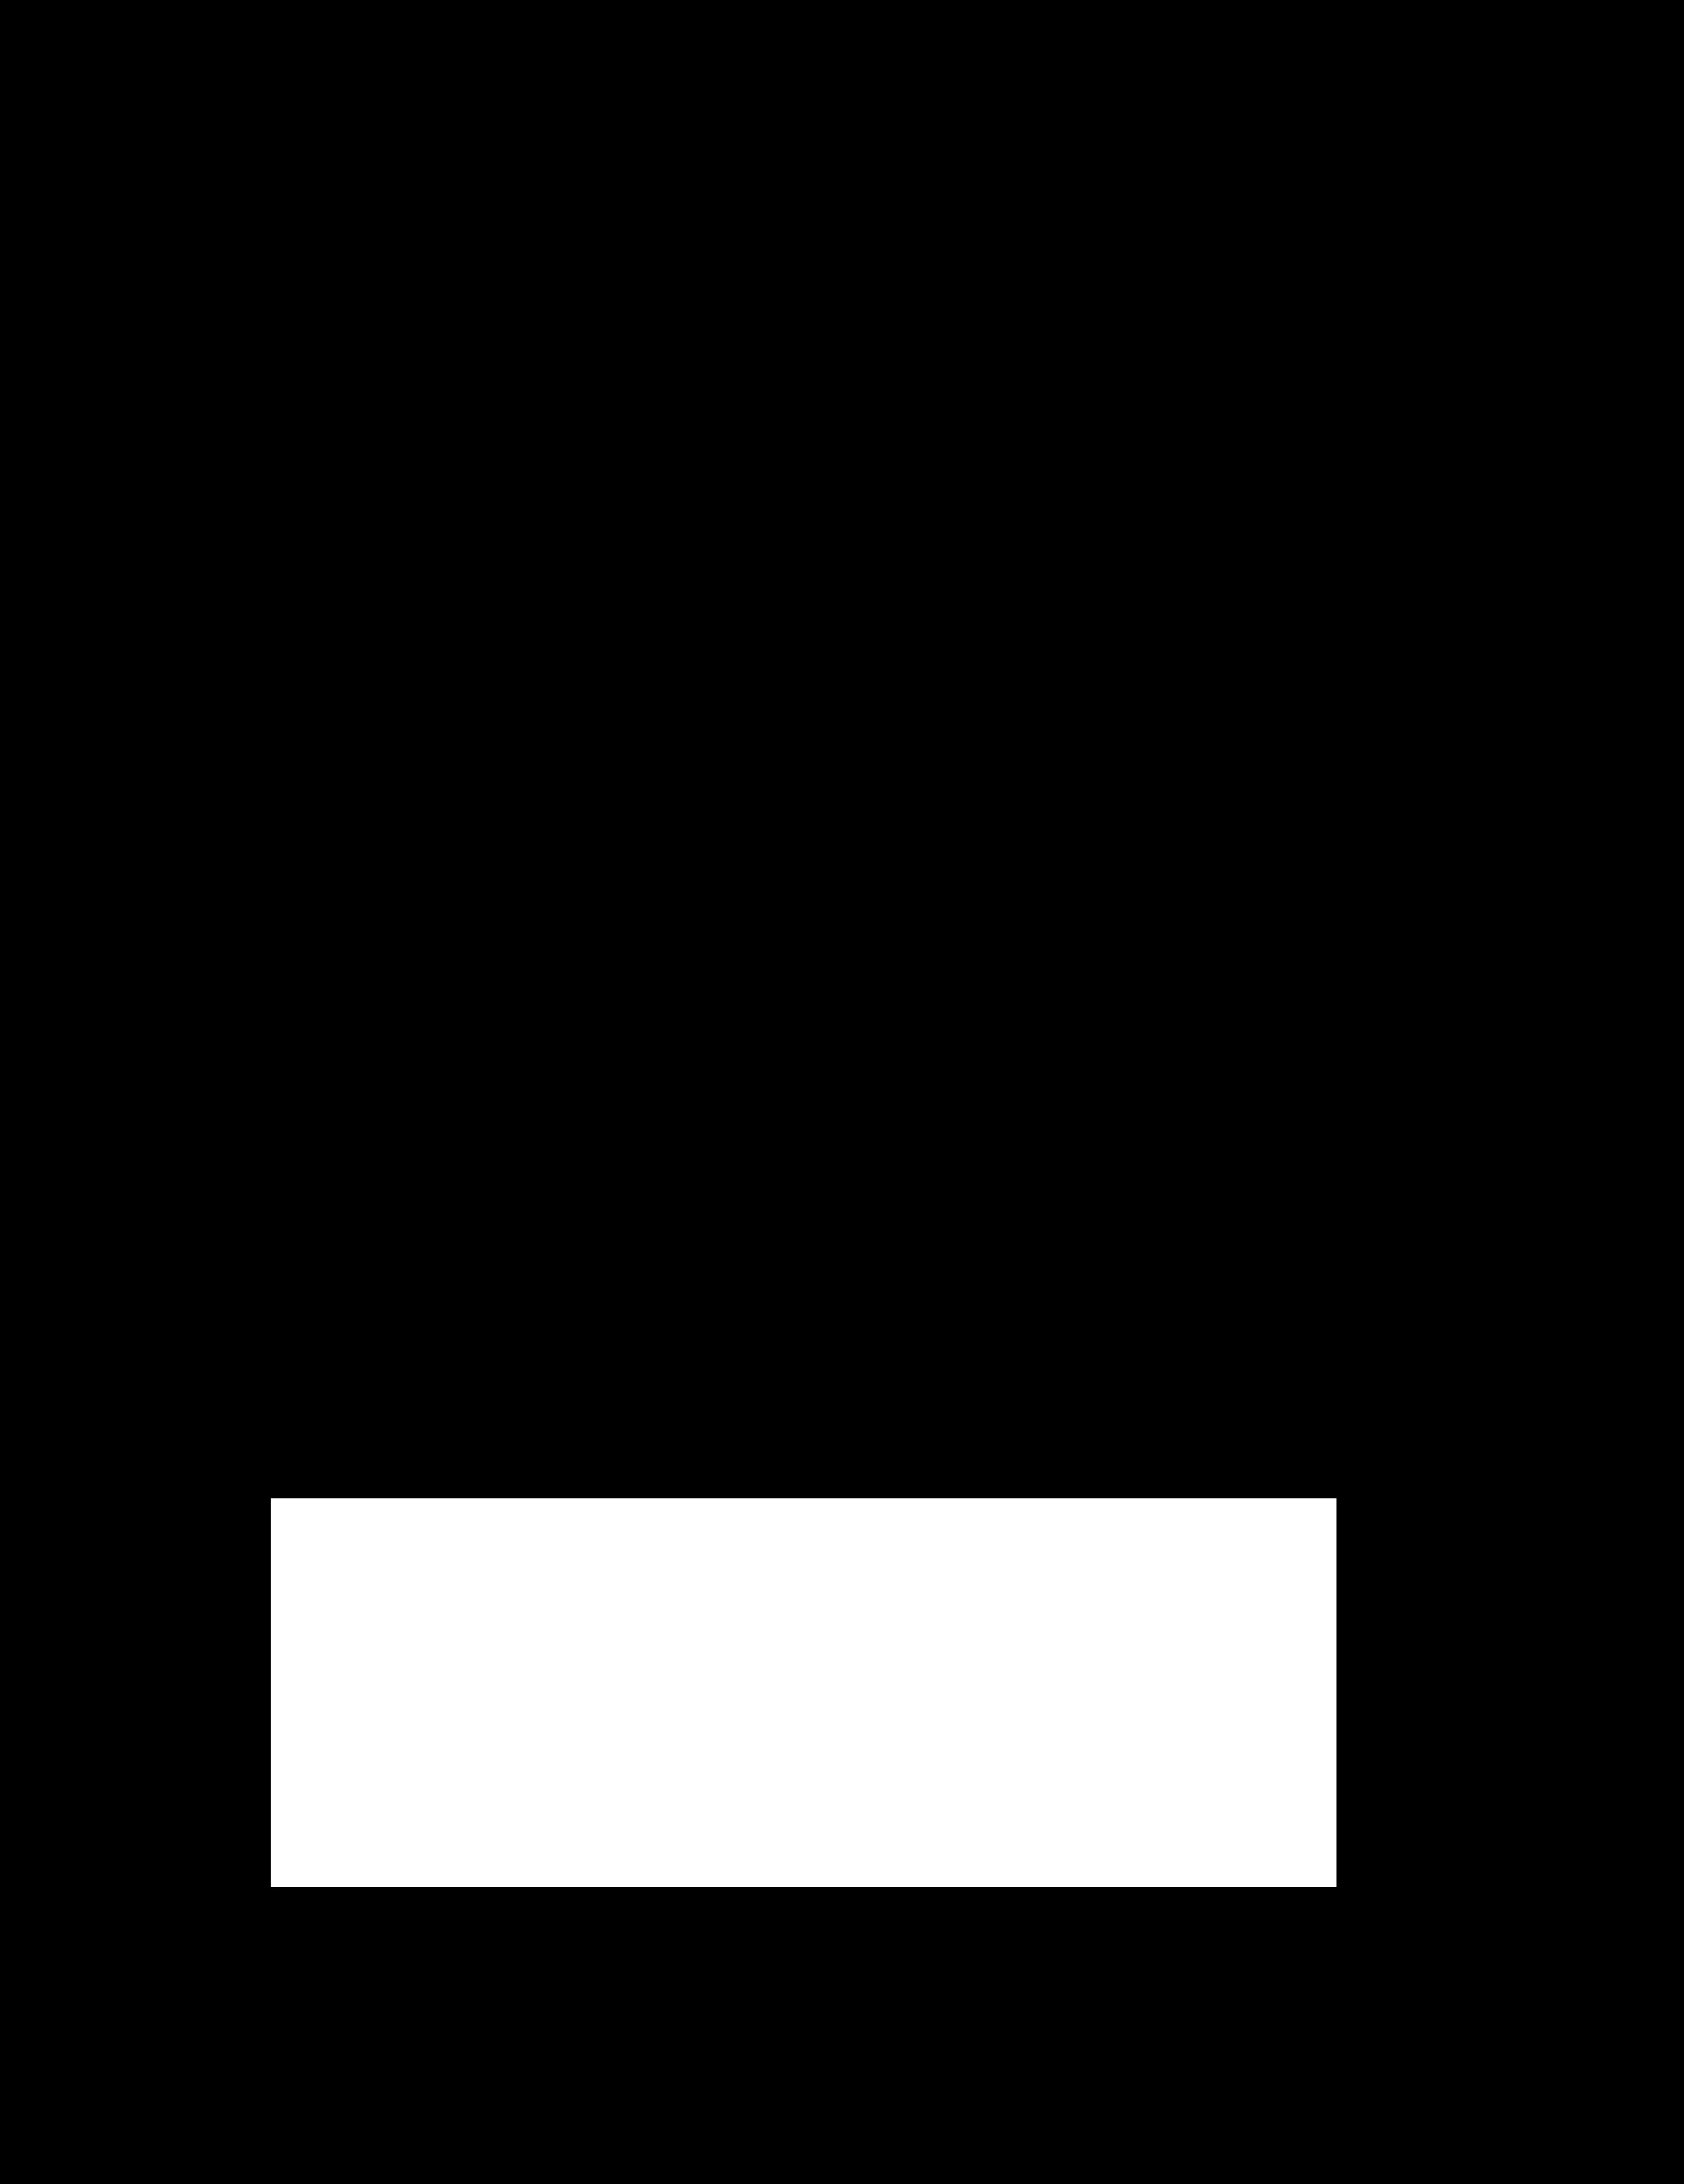table: (271, 1498, 1336, 1887)
